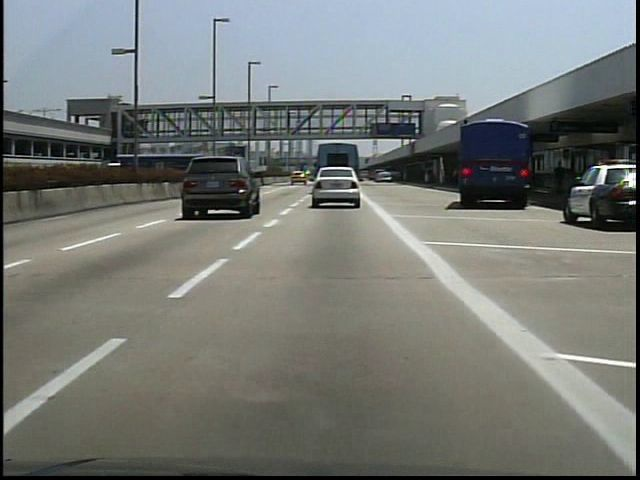person: (549, 156, 567, 199)
